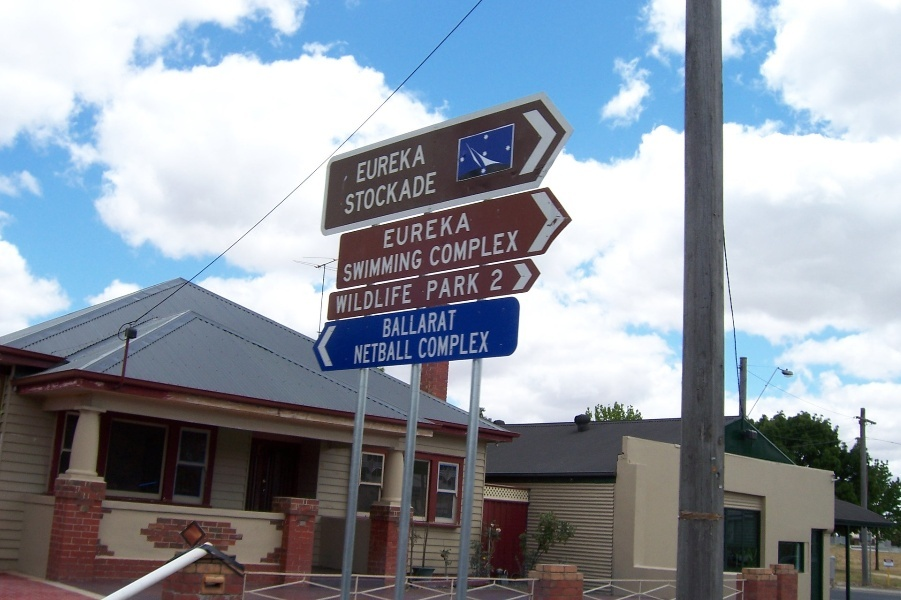text: (353, 171, 368, 216), (369, 171, 384, 216), (385, 171, 400, 216), (401, 171, 416, 216), (417, 171, 432, 216), (369, 144, 384, 183), (385, 144, 400, 183), (401, 144, 416, 183), (385, 211, 400, 250), (401, 211, 416, 250), (417, 211, 432, 250), (433, 211, 448, 250), (449, 211, 464, 250), (433, 230, 448, 268), (449, 230, 464, 268), (465, 230, 480, 268), (481, 230, 496, 268), (497, 230, 512, 268), (353, 248, 368, 285), (369, 248, 384, 285), (385, 248, 400, 285), (401, 248, 416, 285), (385, 308, 400, 339), (401, 308, 416, 339), (417, 308, 432, 339), (433, 308, 448, 339), (433, 329, 448, 360), (449, 329, 464, 360), (465, 329, 480, 360), (337, 284, 352, 314), (353, 284, 368, 314), (369, 284, 384, 314), (385, 284, 400, 314), (465, 273, 481, 301), (418, 329, 432, 360), (433, 273, 448, 301), (449, 273, 464, 301), (369, 338, 384, 366), (385, 338, 400, 366), (354, 338, 368, 366), (358, 144, 368, 183), (401, 284, 413, 314), (417, 144, 426, 183), (401, 338, 413, 366), (449, 308, 459, 339), (344, 248, 352, 285), (481, 329, 490, 360), (513, 230, 520, 268), (417, 248, 424, 285), (465, 211, 471, 250), (347, 171, 352, 216), (433, 171, 438, 216), (497, 269, 504, 292), (428, 273, 432, 301), (492, 269, 496, 292), (430, 230, 432, 268), (383, 308, 384, 339)
